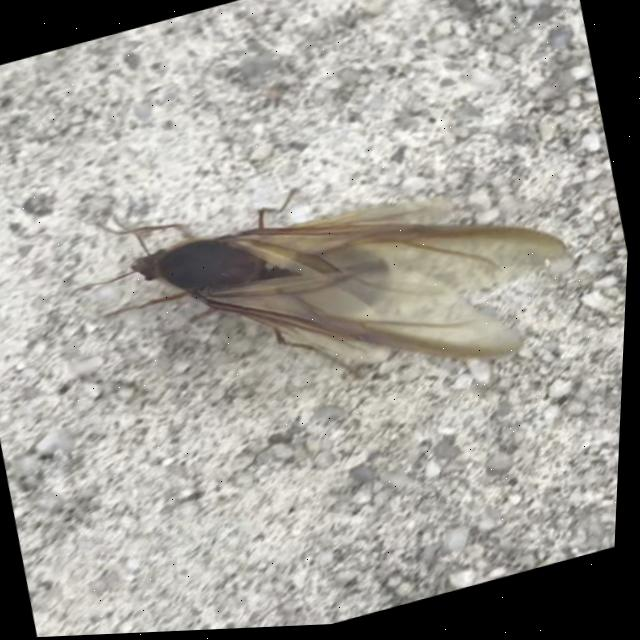Alive-Male-Alate: (64, 99, 595, 466)
